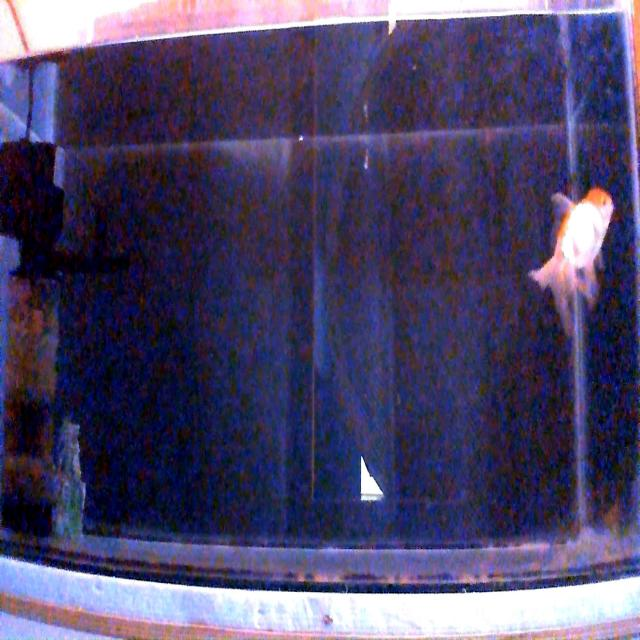fish: (527, 187, 613, 336)
